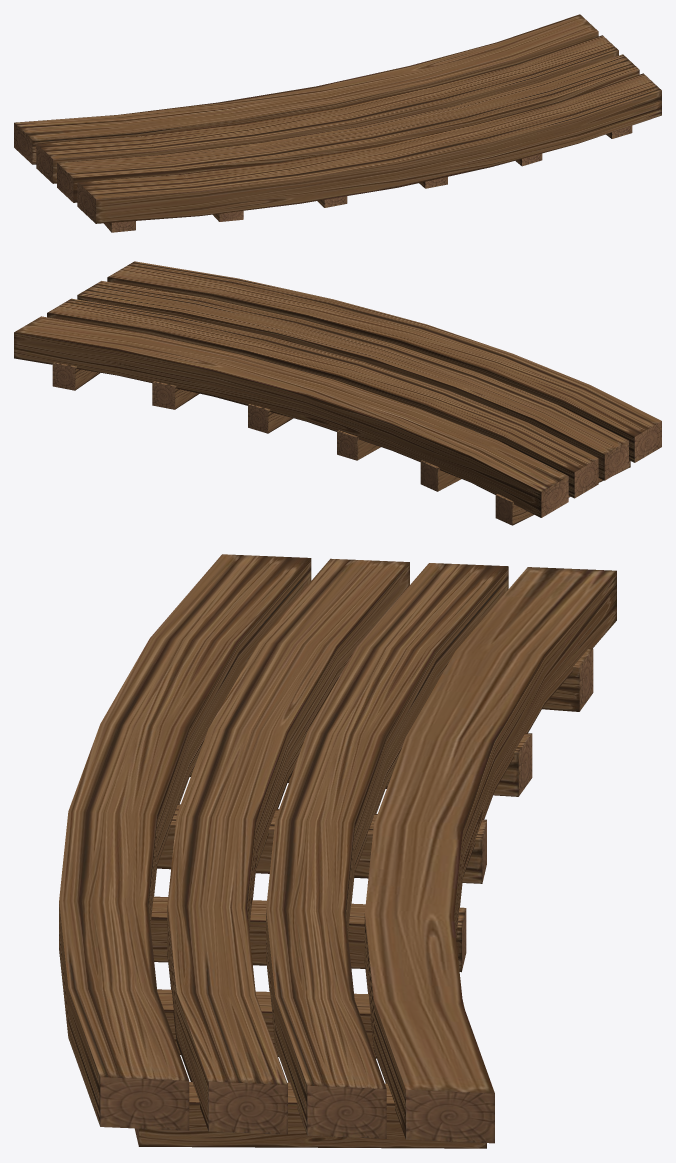
The model's file is Wood_Platform_3.fbx.
The picture shows the model from 3 angles, top to bottom: view 1: azimuth 30°, elevation 25°; view 2: azimuth 150°, elevation 25°; view 3: azimuth 270°, elevation 25°; orthographic projection. The views are drawn at different scales.
Parts seen in each view (by area): view 1: Wood_Platform_3; view 2: Wood_Platform_3; view 3: Wood_Platform_3.
Boxes of the visible parts, left/top/right/bottom form: Wood_Platform_3: left=14, top=14, right=661, bottom=232; Wood_Platform_3: left=14, top=261, right=661, bottom=525; Wood_Platform_3: left=59, top=554, right=616, bottom=1148.
Size of the model in its own units: 1059 by 81.81 by 463.
